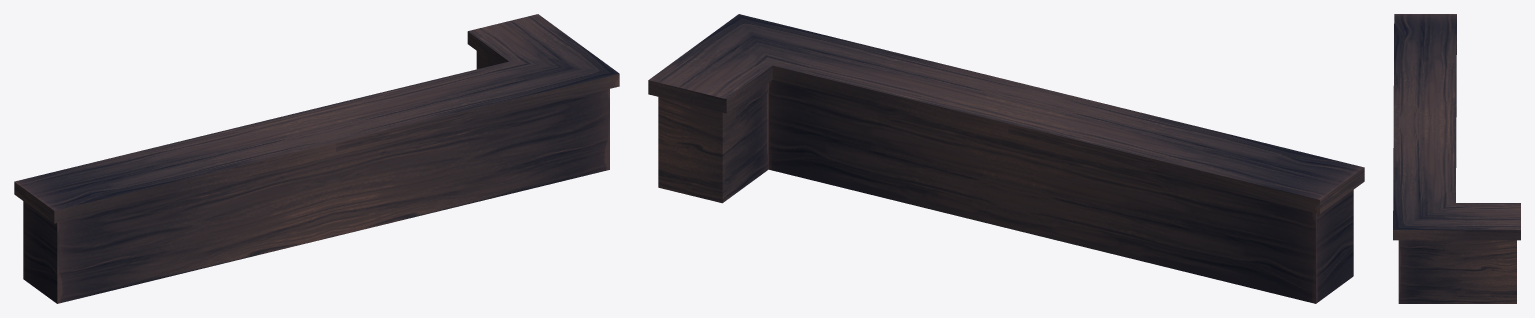
File: Counter_C.fbx
3 renders of one model, left to right at view 1: azimuth 30°, elevation 25°; view 2: azimuth 150°, elevation 25°; view 3: azimuth 270°, elevation 25°, orthographic. The views are drawn at different scales.
Visible parts, largest first — view 1: Counter_C; view 2: Counter_C; view 3: Counter_C.
Boxes of the visible parts, x1,y1,x2,y2 form: Counter_C: [14, 14, 619, 303]; Counter_C: [648, 14, 1364, 303]; Counter_C: [1393, 14, 1520, 303].
Bounding box in the file's own units: 1.25 × 0.2062 × 0.3133.
